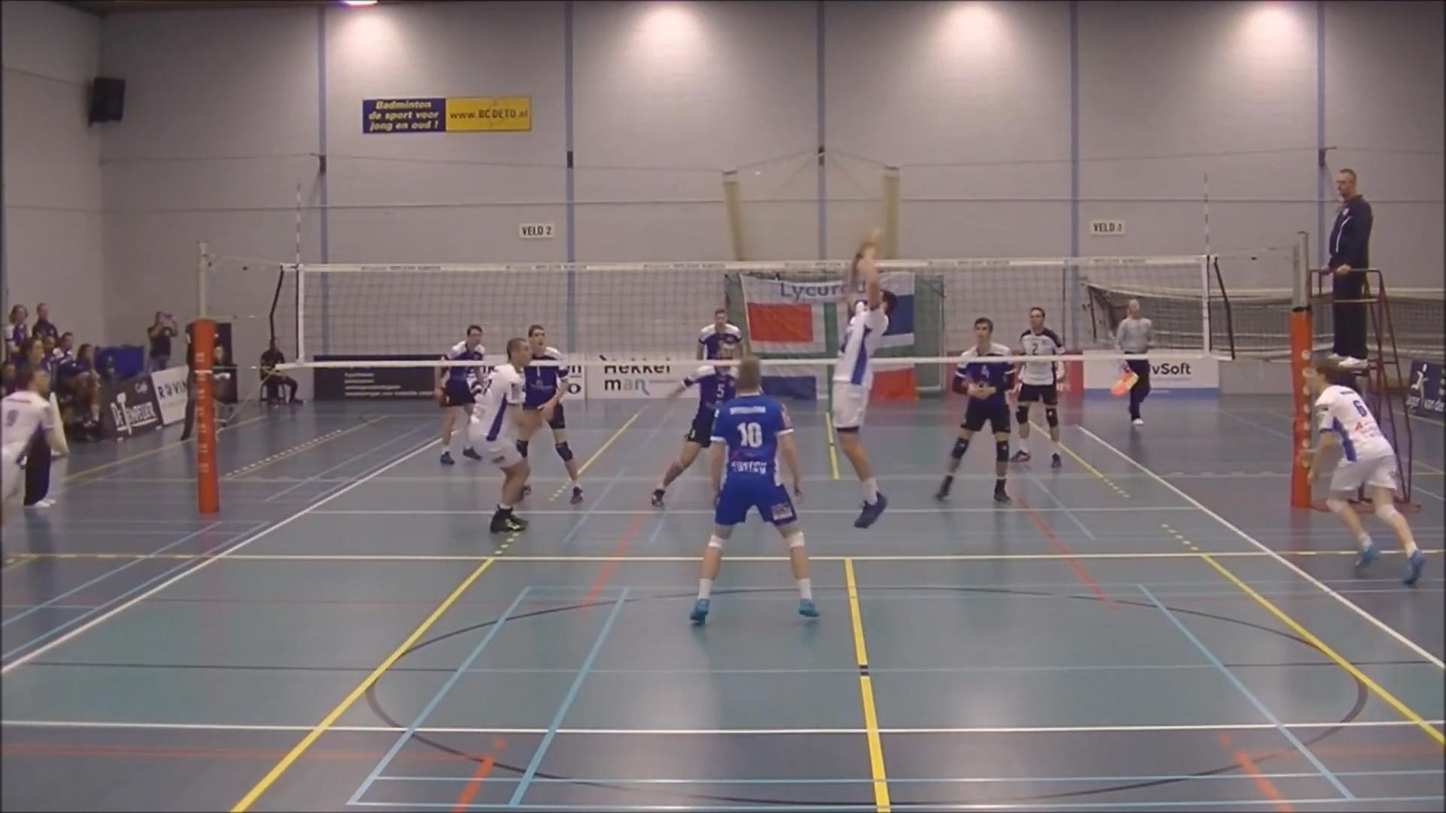alzata: (831, 233, 895, 531)
